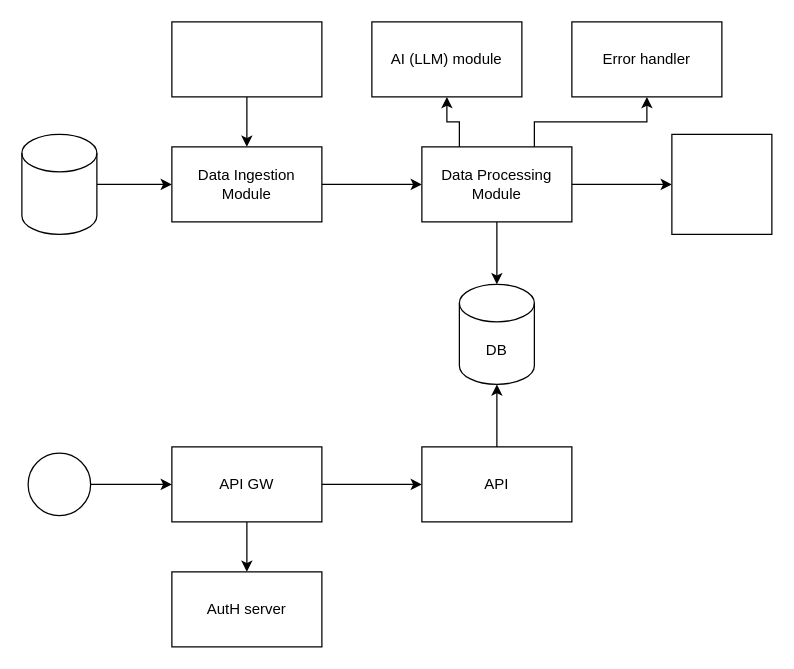
This 794x669 diagram has some shape labels left out. The shapes that lost their labels are listed below. From the top down, each one's centre as x and y in pixels, then its label:
At (x=246, y=59): "Scheduler".
At (x=59, y=183): "Dataset".
At (x=721, y=183): "Remote storage".
At (x=59, y=484): "Request".
